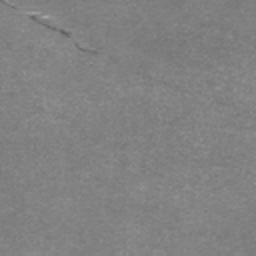Finishing roll printing: (0, 0, 97, 53)
